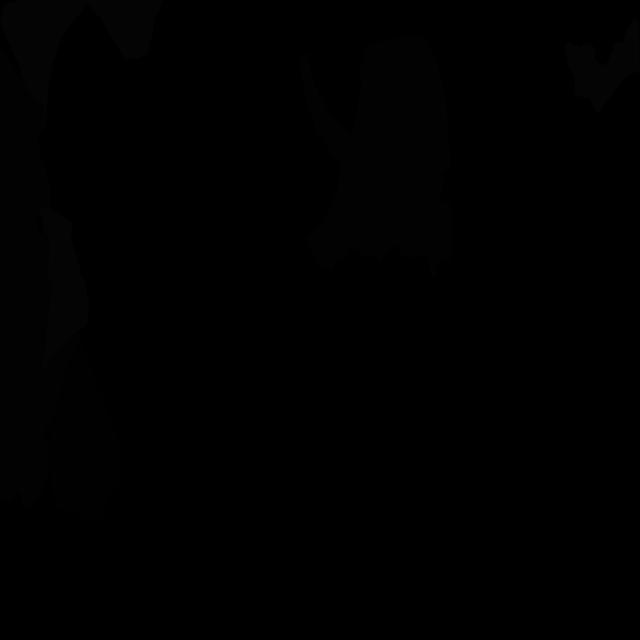cardboard: (300, 35, 453, 278), (0, 215, 82, 423), (0, 47, 51, 239), (0, 397, 52, 512)
rigid_plastic: (50, 343, 123, 522)
soft_plastic: (0, 0, 162, 112), (39, 207, 90, 378), (564, 18, 640, 113)
